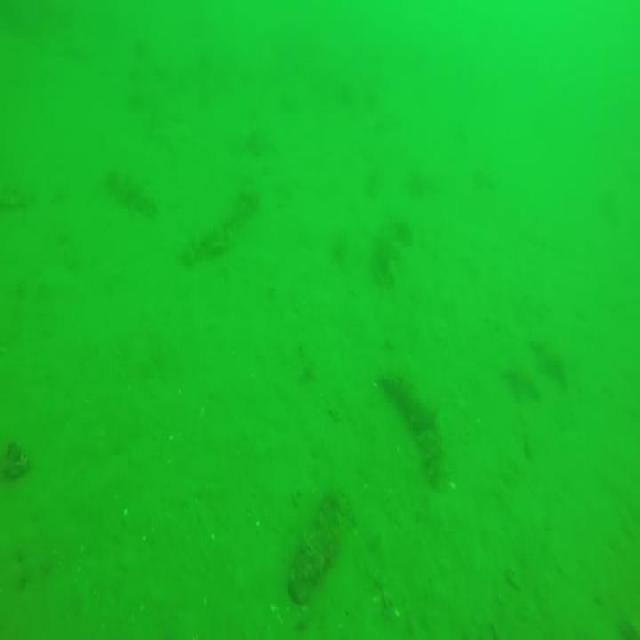holothurian: (376, 360, 443, 487), (183, 182, 265, 258), (103, 161, 157, 223)
